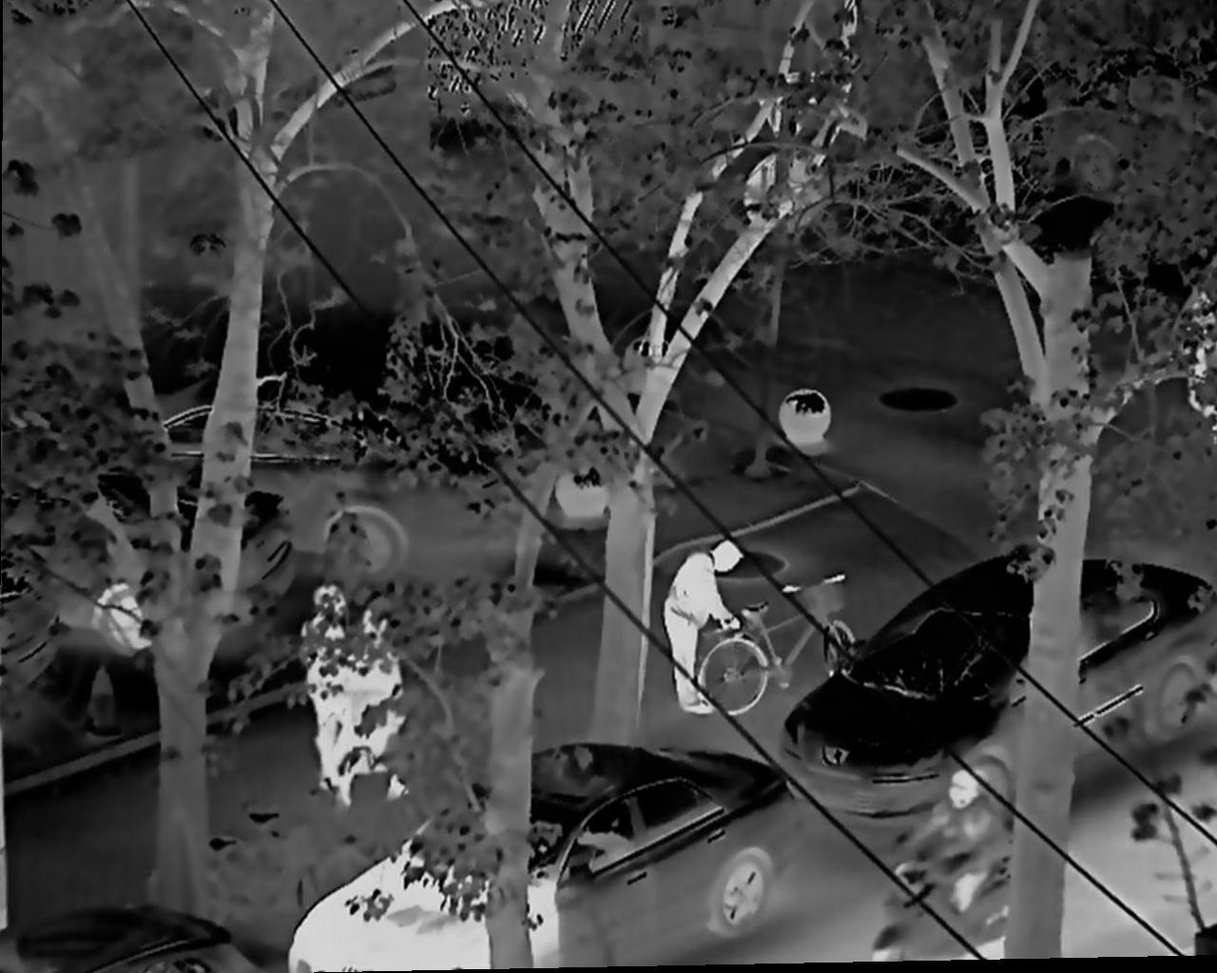person: (900, 769, 1008, 915), (663, 538, 744, 714), (344, 611, 409, 801), (300, 585, 350, 790)
